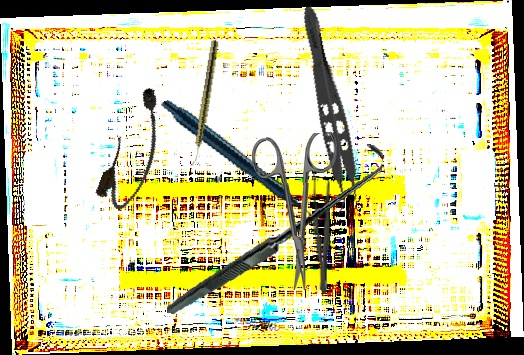Cannula: (92, 83, 179, 215)
Dressing Forceps: (310, 172, 335, 294)
Handpiece: (160, 69, 320, 262), (189, 39, 220, 169)
Hook Surgical: (166, 125, 385, 334)
Iris Scissors: (251, 132, 340, 291)
Tissue Forceps: (283, 4, 370, 218)
